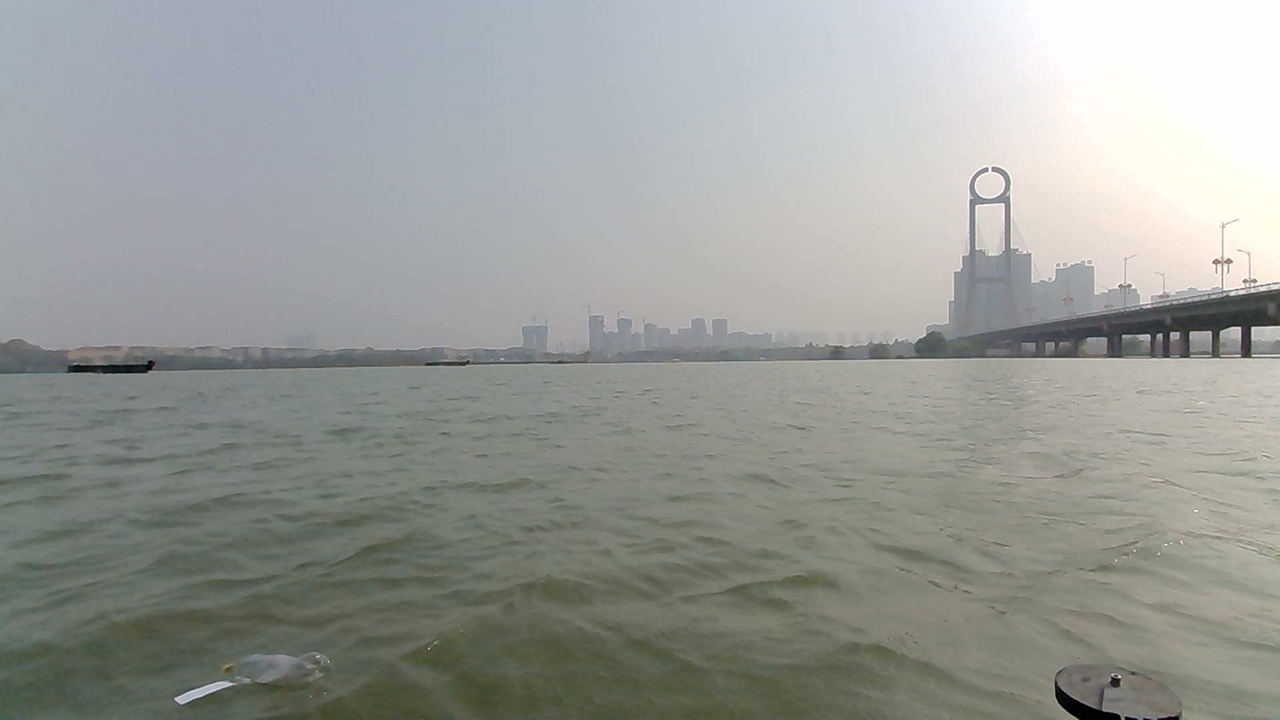bottle: (179, 647, 336, 718)
